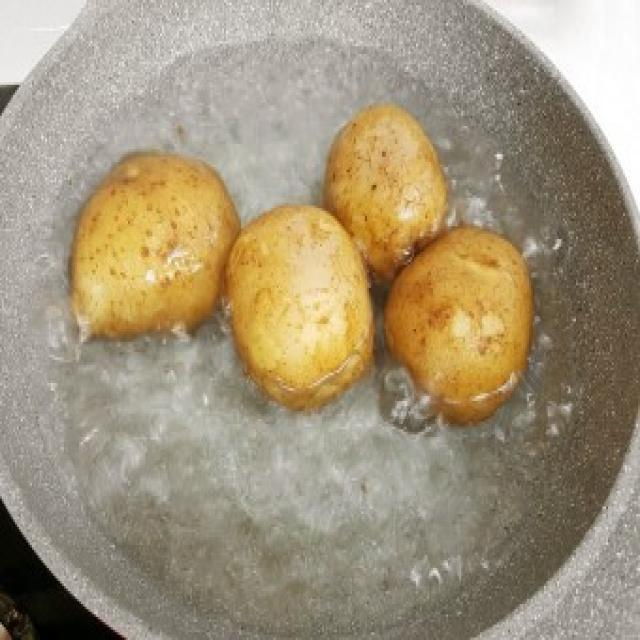potato: (68, 144, 250, 342), (227, 204, 381, 420), (382, 228, 536, 426), (322, 101, 458, 292)
